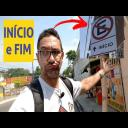NoEstacionar: (88, 17, 116, 43)
